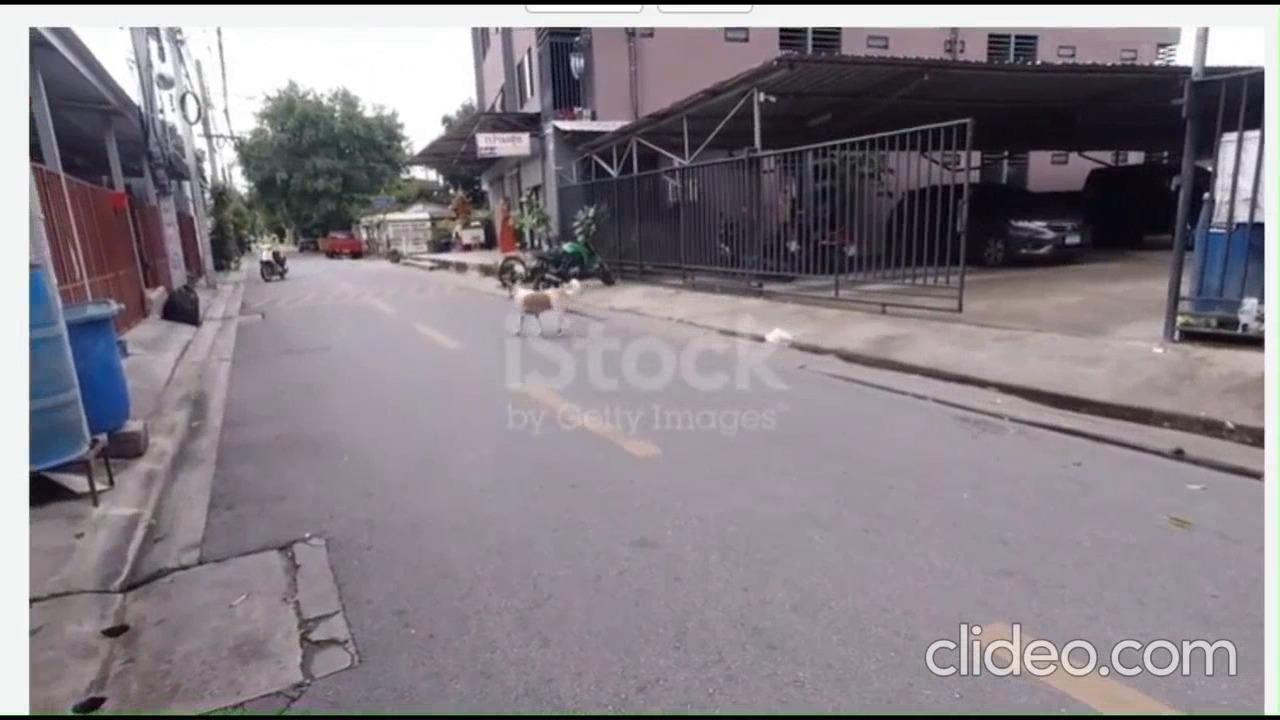dog: (506, 268, 589, 340)
